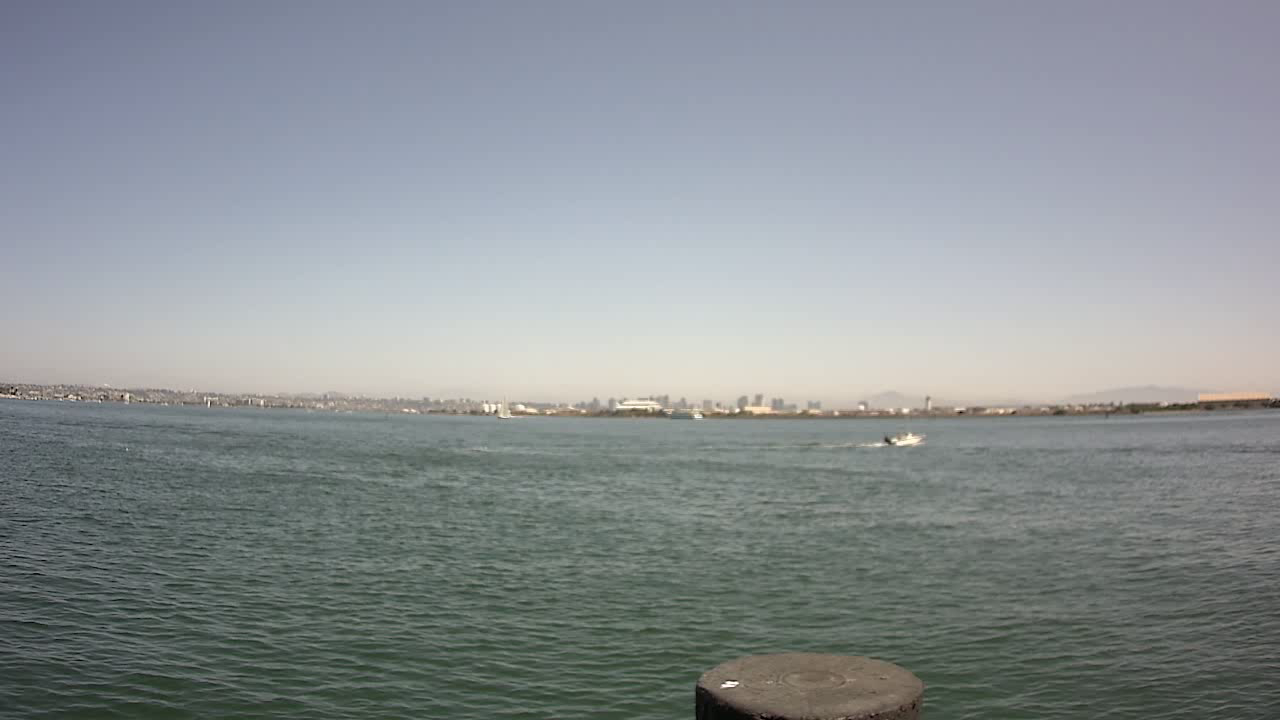target: (882, 421, 933, 454)
